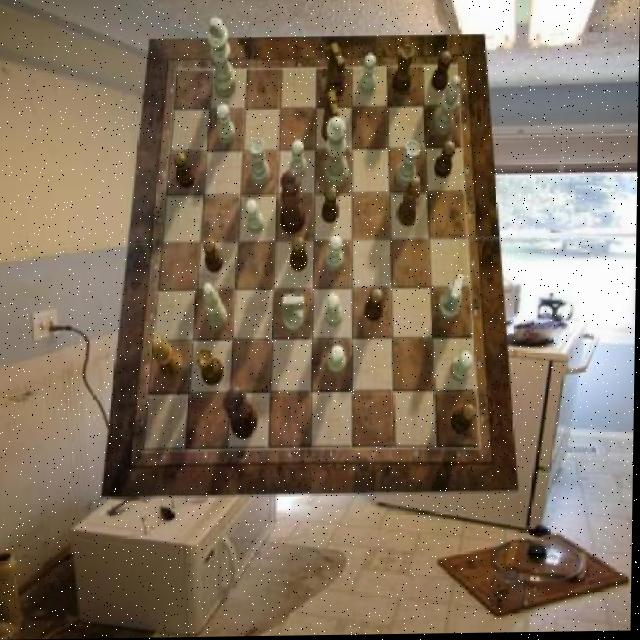bishop: (153, 336, 184, 379), (397, 177, 421, 228)
black-bishop: (223, 385, 260, 440)
black-king: (326, 44, 345, 98), (321, 93, 340, 145)
black-knight: (431, 53, 452, 93), (450, 405, 477, 436), (435, 141, 457, 179), (174, 153, 197, 189), (203, 239, 223, 274), (321, 187, 339, 224), (365, 289, 384, 324), (292, 238, 309, 274)
black-pawn: (280, 169, 307, 234)
black-queen: (197, 348, 225, 387), (392, 46, 413, 95)
black-rook: (432, 78, 459, 137), (202, 284, 227, 331)
white-bishop: (207, 17, 238, 99)
white-king: (438, 276, 464, 322), (281, 296, 304, 335)
white-knight: (452, 353, 475, 385), (359, 56, 376, 98), (290, 143, 308, 181), (218, 105, 235, 145), (246, 200, 265, 235), (325, 294, 343, 329), (326, 237, 343, 274), (327, 347, 346, 374)
white-pawn: (325, 117, 350, 190)
white-queen: (395, 143, 420, 189), (249, 140, 271, 188)
